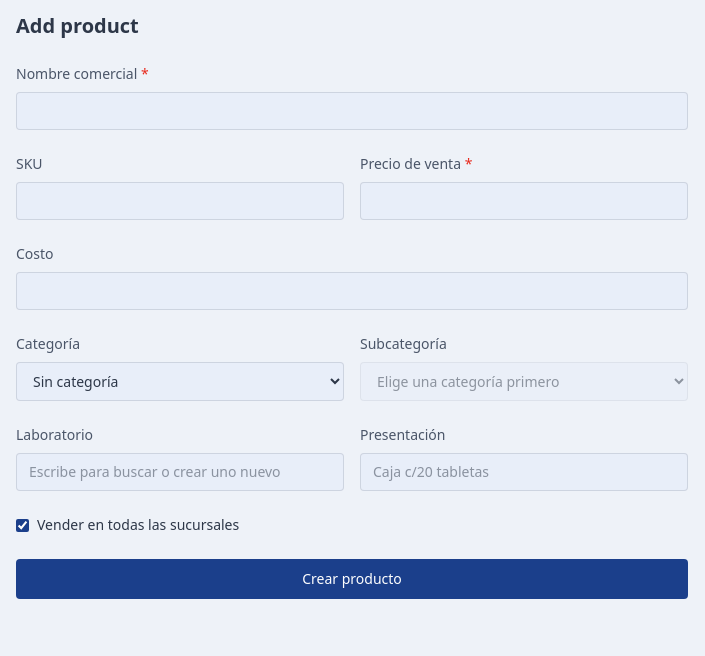
Test case: AddProductScreen › sells a new product at every store unless switched off
What coordinates should you click on to do the following:
click the checkbox labelled "Vender en todas las sucursales"
I would click on:
 (22, 525)
Its box is x1=16 y1=518 x2=29 y2=532.
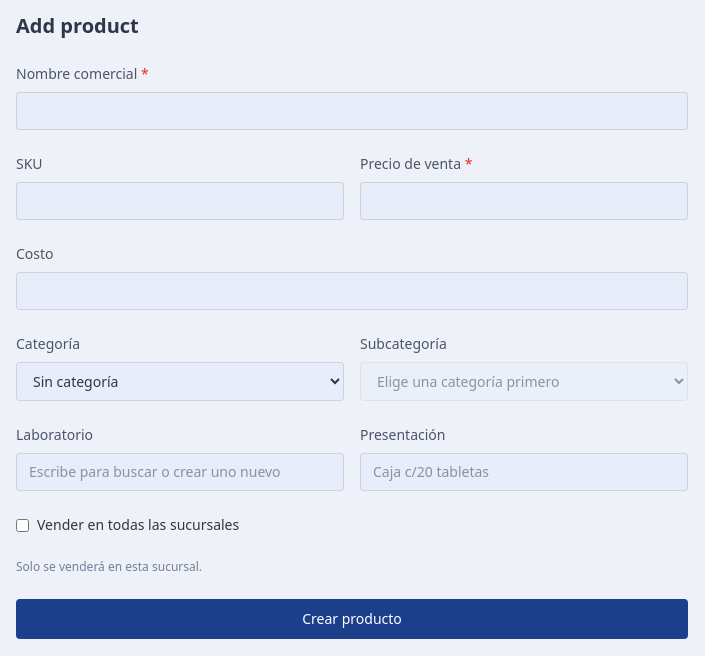
Check: the checkbox labelled "Vender en todas las sucursales" is not checked, box x1=16 y1=518 x2=29 y2=532
Check: the text "Solo se venderá en esta sucursal." is shown, box x1=16 y1=558 x2=202 y2=575
